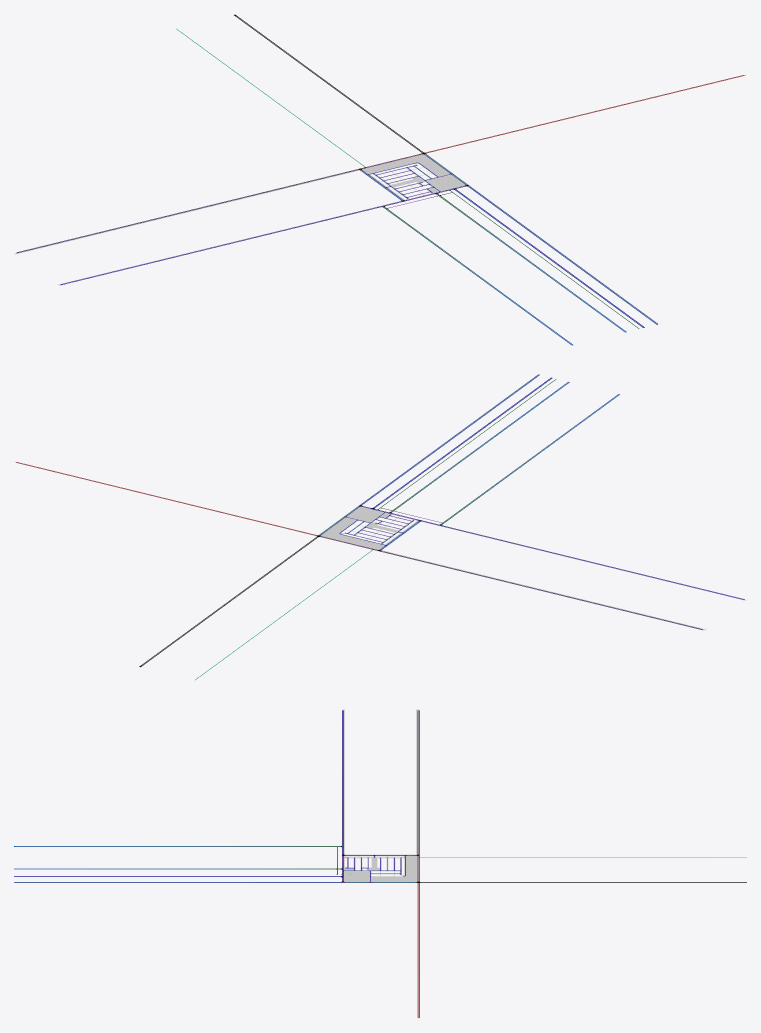
File: road.glb
3 views of the same model, one above another, from view 1: azimuth 30°, elevation 25°; view 2: azimuth 150°, elevation 25°; view 3: azimuth 270°, elevation 25° (orthographic). The views are drawn at different scales.
Visible parts, largest first — view 1: roads, grass, sidewalk; view 2: roads, grass, sidewalk; view 3: roads, sidewalk, grass.
Part boxes in pixels (box(x1,y1,x2,y2)): roads: box(16, 14, 744, 345); grass: box(14, 16, 746, 344); sidewalk: box(15, 154, 657, 323); roads: box(16, 374, 744, 679); grass: box(14, 375, 746, 665); sidewalk: box(319, 375, 745, 629); roads: box(14, 710, 746, 1017); sidewalk: box(15, 709, 417, 882); grass: box(15, 709, 418, 1018).
Size of the model in its own units: 7360 by 0.2055 by 7364.
